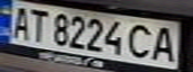2: (81, 15, 106, 54), (66, 12, 87, 51)
4: (103, 18, 127, 56)
8: (48, 10, 72, 47)
A: (148, 24, 181, 63), (6, 3, 36, 41)
C: (124, 21, 157, 61)
T: (24, 7, 51, 43)
